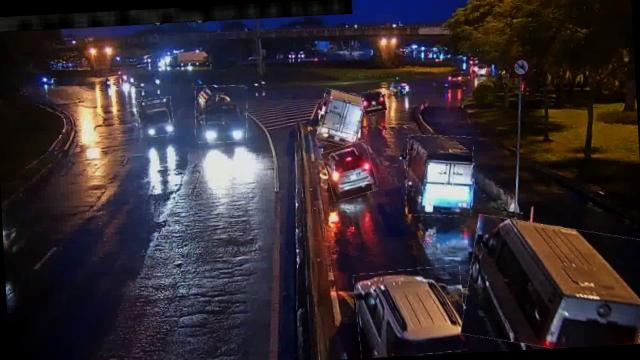Bus: (459, 214, 640, 352)
Car: (354, 265, 466, 358), (323, 142, 376, 200), (360, 88, 388, 114)
Truck: (404, 132, 476, 217), (193, 83, 248, 143), (316, 90, 364, 148), (137, 97, 174, 136)
